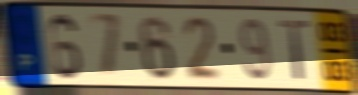2: (181, 14, 223, 82)
6: (46, 10, 84, 82), (137, 14, 177, 82)
7: (85, 11, 123, 83)
9: (238, 16, 272, 82)
T: (276, 17, 312, 83)
